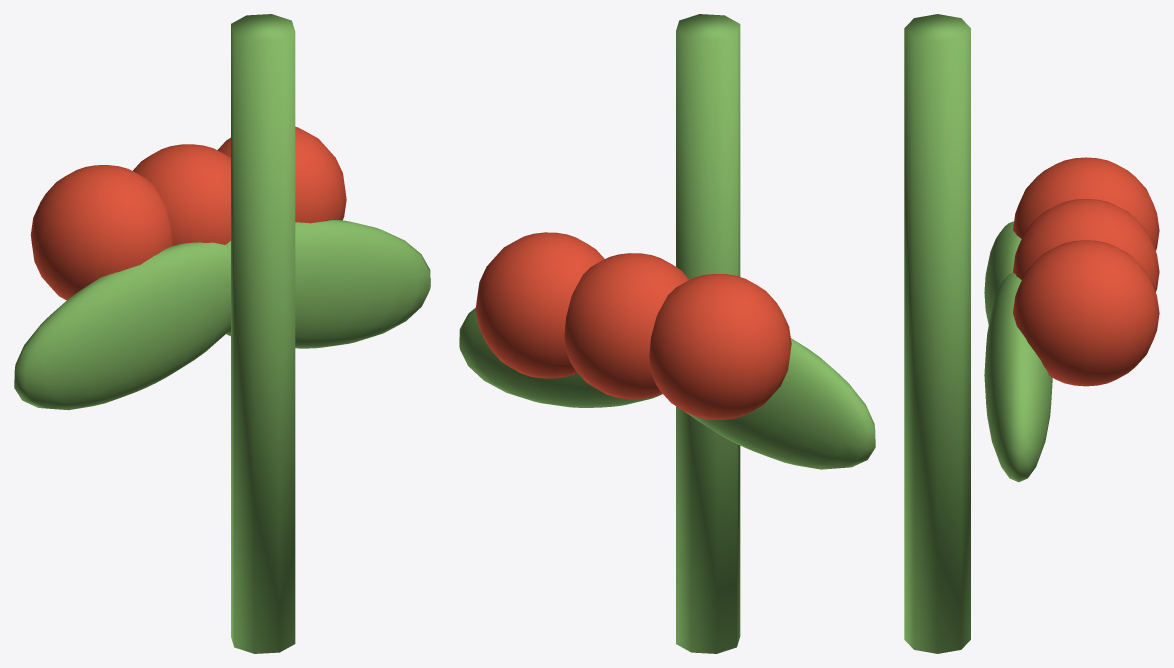
File: tomato_harvest_item.glb
3 renders of one model, left to right at view 1: azimuth 30°, elevation 25°; view 2: azimuth 150°, elevation 25°; view 3: azimuth 270°, elevation 25°, orthographic.
Visible parts, largest first — view 1: Stem, Leaf, Leaf.001, Fruit, Fruit.001, Fruit.002; view 2: Stem, Fruit, Fruit.002, Fruit.001, Leaf, Leaf.001; view 3: Stem, Fruit.002, Leaf.001, Fruit.001, Fruit, Leaf.
Part boxes in pixels (bbox=[...]): Stem: bbox=[231, 14, 295, 653]; Leaf: bbox=[14, 242, 230, 410]; Leaf.001: bbox=[225, 219, 430, 348]; Fruit: bbox=[30, 165, 172, 300]; Fruit.001: bbox=[133, 144, 230, 245]; Fruit.002: bbox=[217, 126, 346, 223]; Stem: bbox=[676, 14, 740, 653]; Fruit: bbox=[649, 274, 791, 419]; Fruit.002: bbox=[475, 232, 604, 378]; Fruit.001: bbox=[564, 253, 689, 399]; Leaf: bbox=[684, 338, 875, 469]; Leaf.001: bbox=[459, 307, 662, 407]; Stem: bbox=[904, 14, 970, 653]; Fruit.002: bbox=[1013, 240, 1159, 386]; Leaf.001: bbox=[984, 273, 1052, 482]; Fruit.001: bbox=[1013, 199, 1159, 291]; Fruit: bbox=[1013, 157, 1159, 250]; Leaf: bbox=[984, 221, 1021, 324].
Bounding box in the file's own units: 0.4907 × 0.69 × 0.2608.
